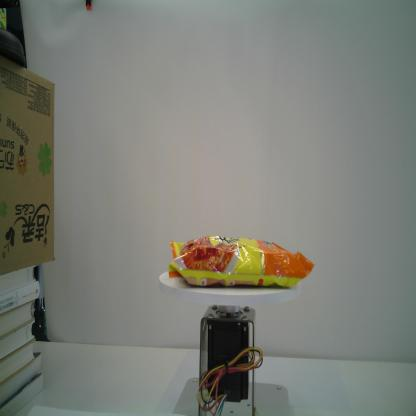Instant Noodles: (167, 234, 316, 290)
